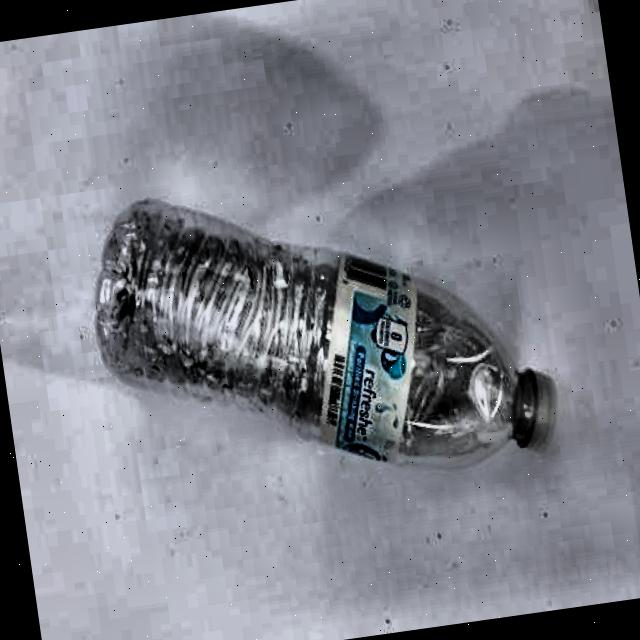plastic: (76, 144, 564, 516)
